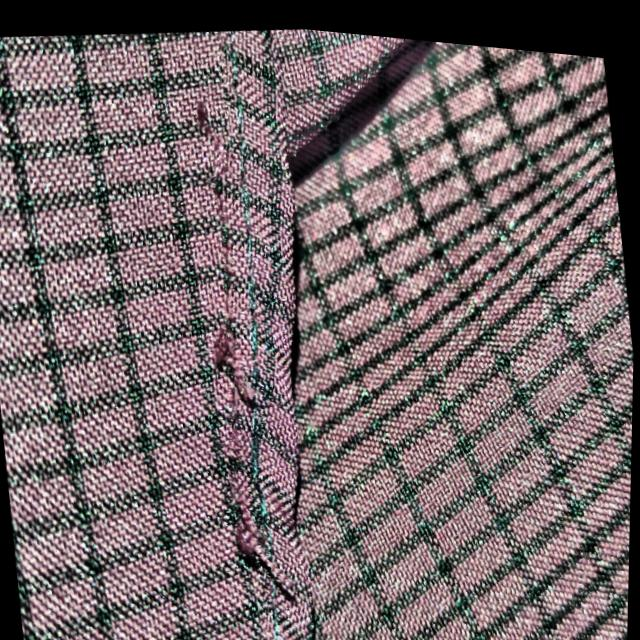Stitch: (167, 395, 316, 631), (152, 207, 270, 397)
